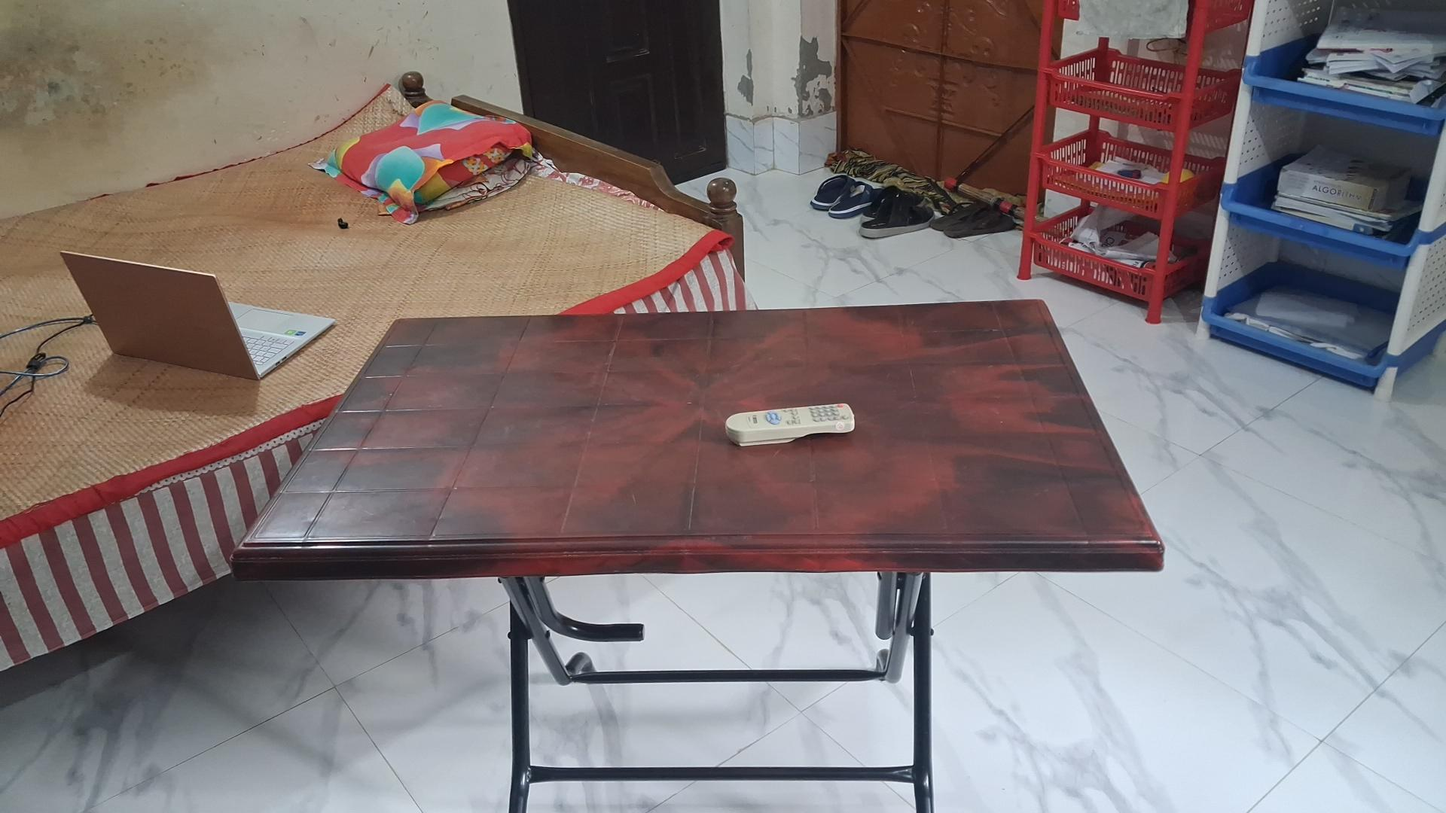Footwear: (854, 186, 934, 238), (931, 202, 1016, 238), (810, 173, 877, 218)
Laptop: (59, 250, 336, 383)
Pillow: (305, 101, 536, 216)
Rack: (1203, 2, 1439, 408), (1020, 3, 1244, 321)
Remote: (725, 403, 855, 447)
Table: (234, 298, 1166, 800)
